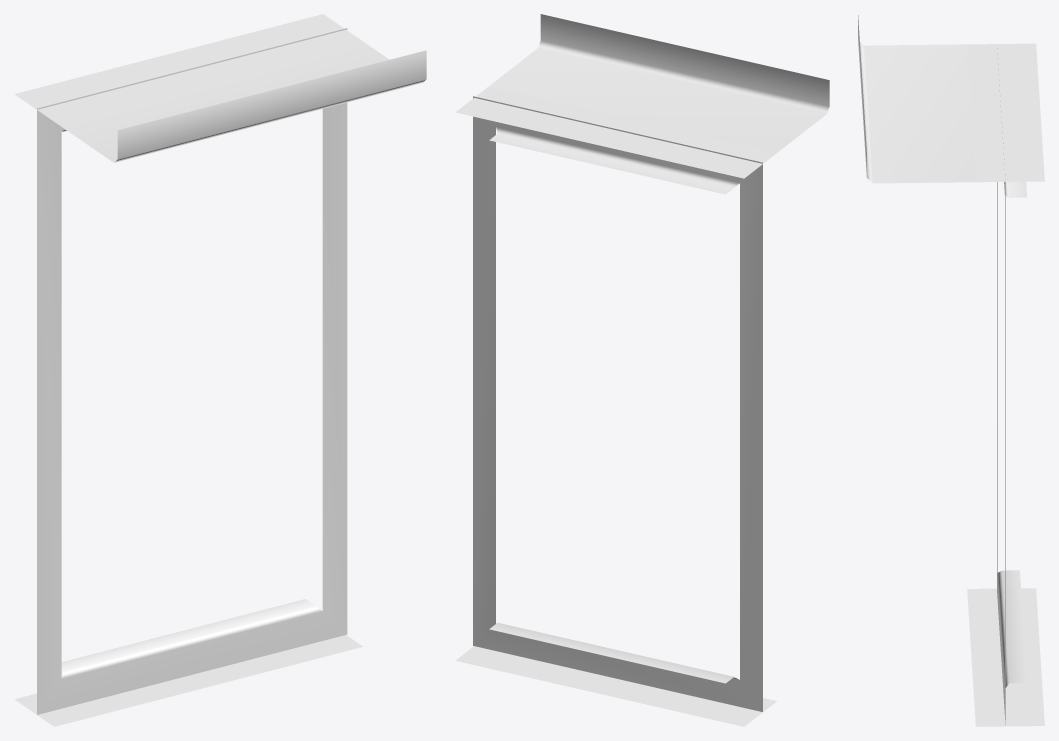
File: Marco.obj
3 renders of one model, left to right at view 1: azimuth 30°, elevation 25°; view 2: azimuth 150°, elevation 25°; view 3: azimuth 270°, elevation 25°, orthographic. The views are drawn at different scales.
Visible parts, largest first — view 1: Ventana:node_id6root; view 2: Ventana:node_id6root; view 3: Ventana:node_id6root.
Boxes of the visible parts, x1,y1,x2,y2 form: Ventana:node_id6root: (14,14,426,726); Ventana:node_id6root: (455,14,829,726); Ventana:node_id6root: (858,15,1044,726).
Size of the model in its own units: 1.77 by 3.4 by 0.9999.
1 material, 1 textured.
